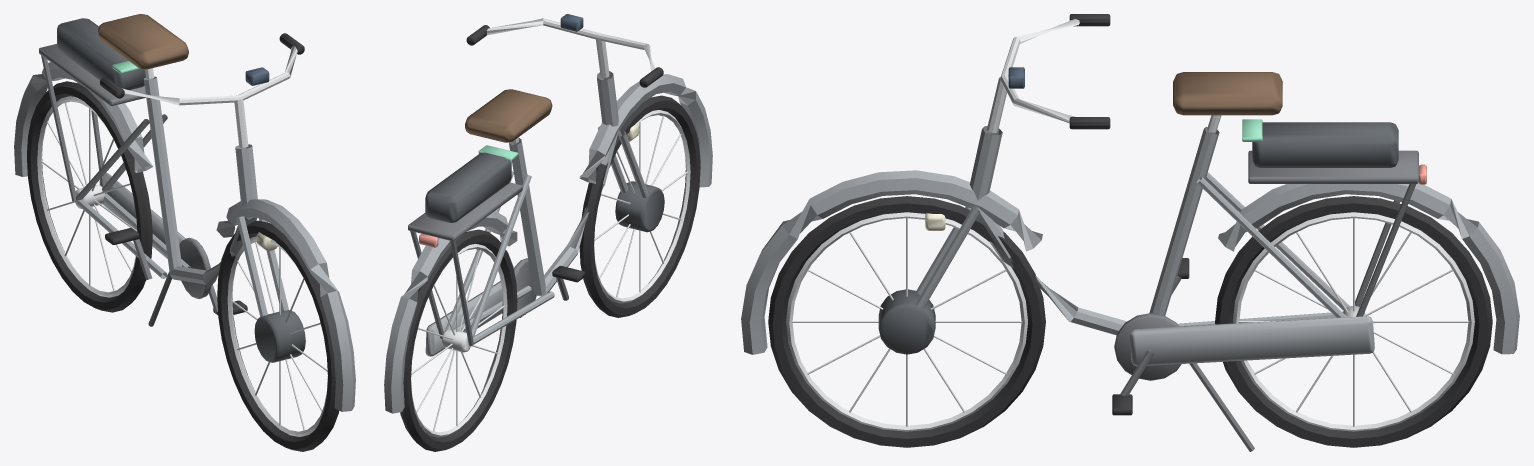
Rendered from ebike.glb.
The picture shows the model from 3 angles, left to right: view 1: azimuth 30°, elevation 25°; view 2: azimuth 150°, elevation 25°; view 3: azimuth 270°, elevation 25°; orthographic projection. The views are drawn at different scales.
Parts seen in each view (by area): view 1: Body; view 2: Body; view 3: Body.
Boxes of the visible parts, x1,y1,x2,y2 form: Body: [14, 14, 355, 451]; Body: [384, 14, 712, 451]; Body: [741, 14, 1519, 451].
Bounding box in the file's own units: 0.6304 × 1.06 × 1.92.
